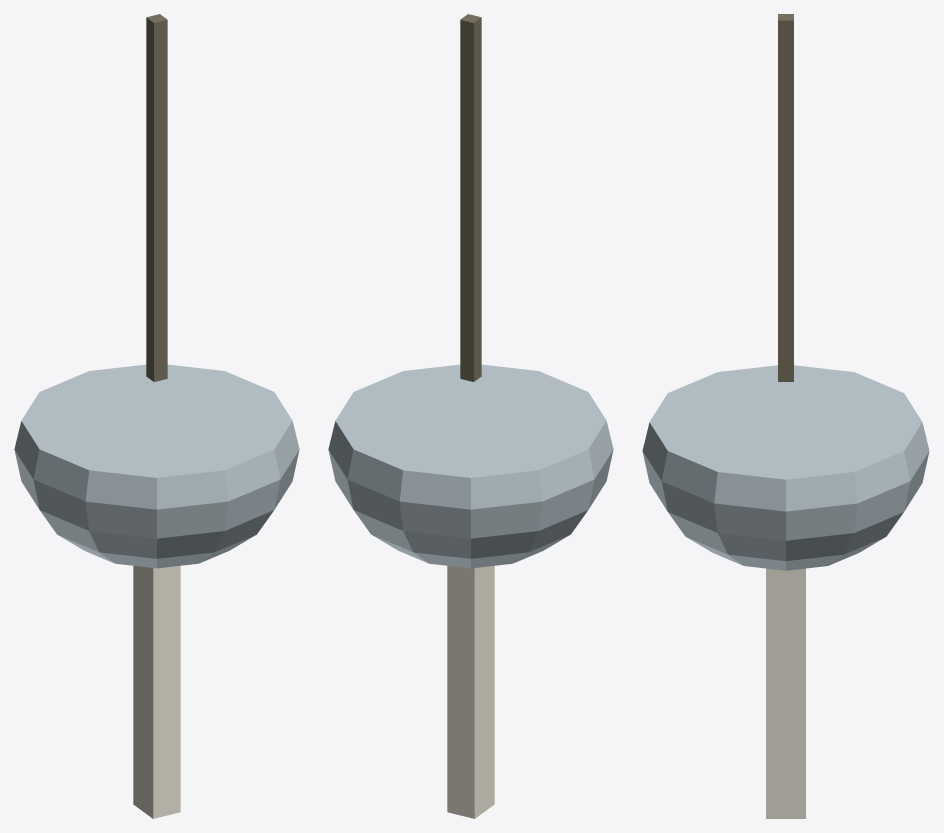
File: furin.glb
3 renders of one model, left to right at view 1: azimuth 30°, elevation 25°; view 2: azimuth 150°, elevation 25°; view 3: azimuth 270°, elevation 25°, orthographic.
Parts seen in each view (by area): view 1: Furin; view 2: Furin; view 3: Furin.
Part boxes in pixels (x1,y1,x2,y2): Furin: (14,14,299,818); Furin: (328,14,613,818); Furin: (642,14,929,818).
Size of the model in its own units: 0.36 by 1.1 by 0.36.
